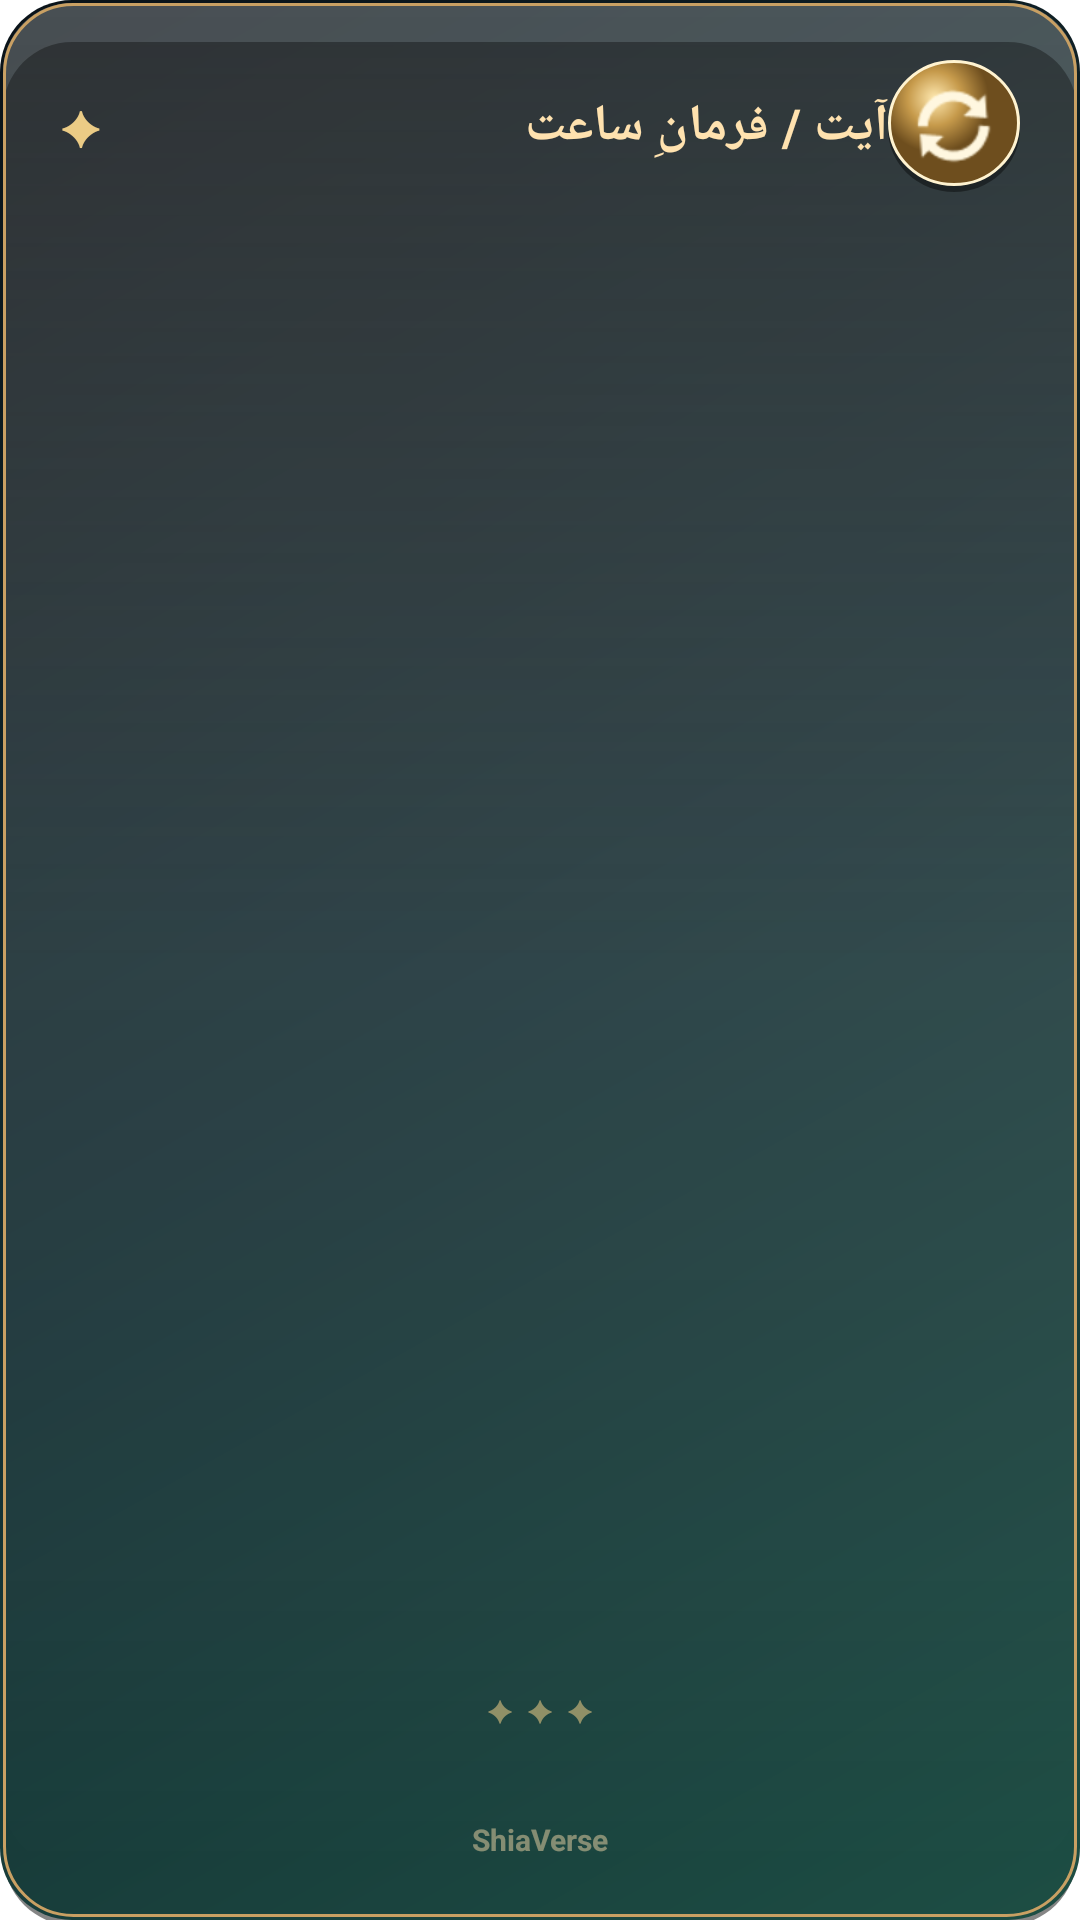

Point at icon controls on the screen. Image size 1080 x 1920, points as (x,y).
اگلا قول: (954,123)
